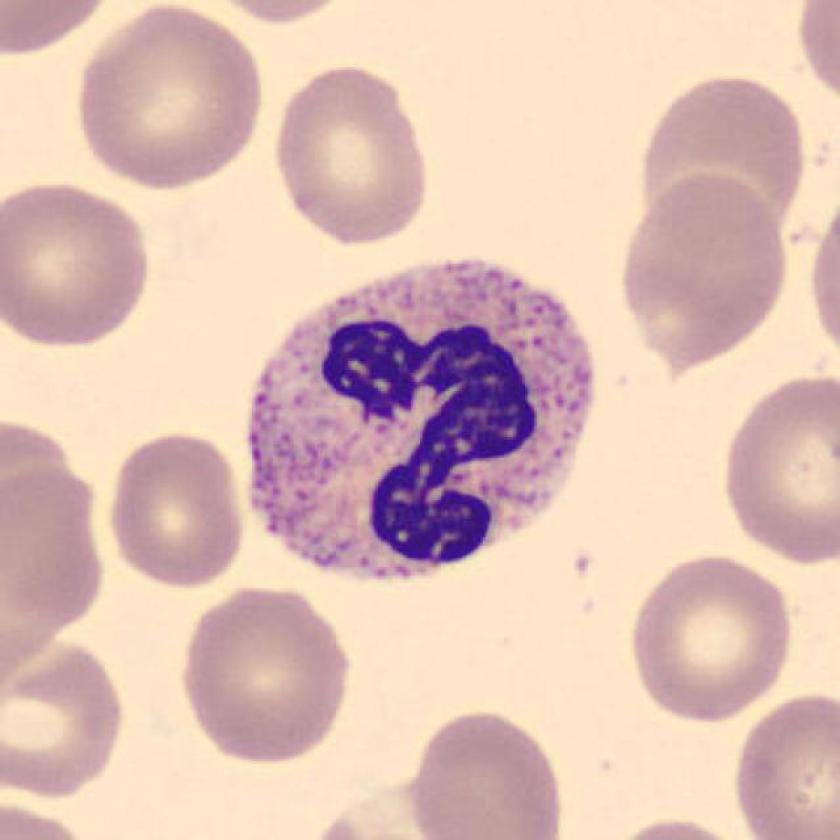neutrophil: (247, 260, 595, 579)
